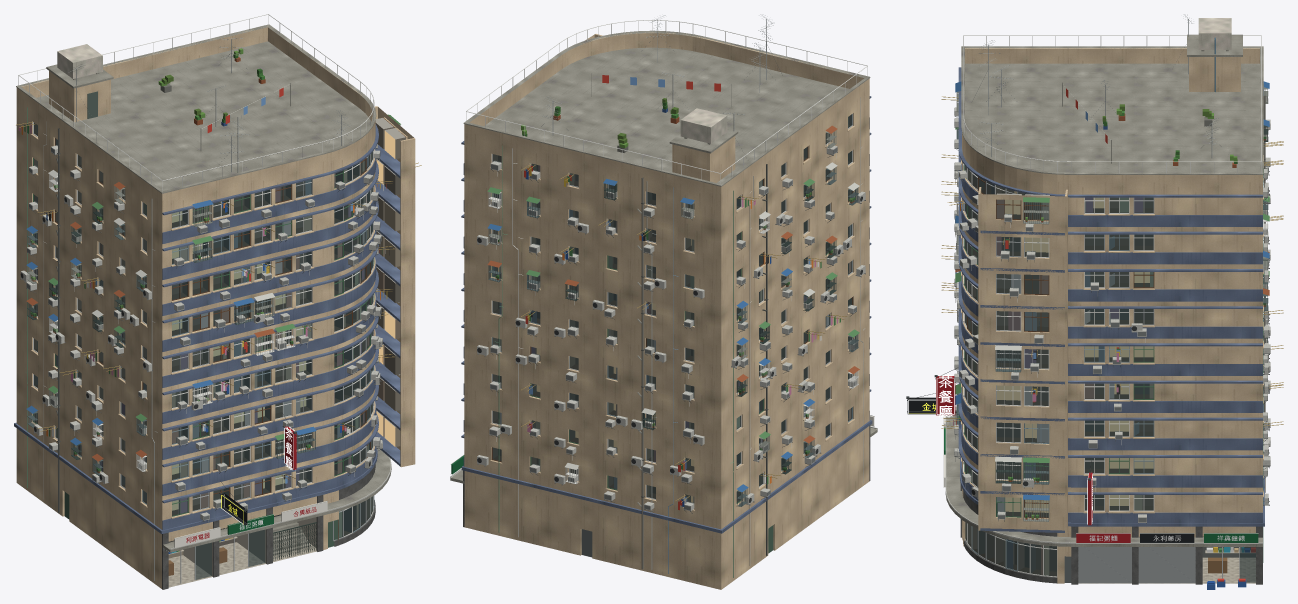
The model's file is hk-composite-curve.glb.
3 views of the same model, side by side, from view 1: azimuth 30°, elevation 25°; view 2: azimuth 150°, elevation 25°; view 3: azimuth 270°, elevation 25° (orthographic). The views are drawn at different scales.
Parts seen in each view (by area): view 1: Building_wall, Building_band, Building_slab, Building_glass, Building_room, Building_metal, Building_vc, Building_frame, Building_ac, Building_board, Building_lit_warm, Building_granite (+3 smaller); view 2: Building_wall, Building_slab, Building_metal, Building_vc, Building_ac, Building_glass, Building_room, Building_band, Building_frame, Building_tank, Building_bamboo; view 3: Building_wall, Building_slab, Building_band, Building_glass, Building_room, Building_metal, Building_frame, Building_vc, Building_ac, Building_shutter, Building_board, Building_lit_warm (+5 smaller).
Part boxes in pixels (left/top/right/bottom): Building_wall: left=16, top=26, right=415, bottom=588; Building_band: left=14, top=124, right=400, bottom=534; Building_slab: left=16, top=24, right=391, bottom=555; Building_glass: left=34, top=123, right=373, bottom=579; Building_room: left=34, top=118, right=405, bottom=576; Building_metal: left=18, top=14, right=400, bottom=560; Building_vc: left=18, top=48, right=400, bottom=580; Building_frame: left=33, top=117, right=406, bottom=583; Building_ac: left=20, top=144, right=400, bottom=520; Building_board: left=174, top=426, right=327, bottom=547; Building_lit_warm: left=172, top=130, right=395, bottom=510; Building_granite: left=162, top=464, right=375, bottom=589; Building_wall: left=464, top=32, right=869, bottom=589; Building_slab: left=450, top=30, right=877, bottom=483; Building_metal: left=450, top=14, right=877, bottom=557; Building_vc: left=487, top=74, right=864, bottom=577; Building_ac: left=477, top=145, right=865, bottom=511; Building_glass: left=492, top=114, right=852, bottom=503; Building_room: left=493, top=114, right=851, bottom=502; Building_band: left=461, top=96, right=872, bottom=533; Building_frame: left=491, top=113, right=852, bottom=503; Building_tank: left=680, top=108, right=727, bottom=143; Building_bamboo: left=521, top=164, right=847, bottom=502; Building_wall: left=961, top=48, right=1263, bottom=583; Building_slab: left=945, top=34, right=1263, bottom=546; Building_band: left=958, top=67, right=1264, bottom=532; Building_glass: left=965, top=166, right=1255, bottom=582; Building_room: left=963, top=166, right=1255, bottom=575; Building_metal: left=906, top=14, right=1270, bottom=582; Building_frame: left=963, top=165, right=1239, bottom=578; Building_vc: left=946, top=37, right=1269, bottom=589; Building_ac: left=954, top=96, right=1270, bottom=522; Building_shutter: left=1078, top=547, right=1195, bottom=583; Building_board: left=907, top=376, right=1258, bottom=542; Building_lit_warm: left=997, top=191, right=1153, bottom=512.
Bounding box in the file's own units: 26.05 × 36.83 × 27.57.
19 materials, 8 textured.
